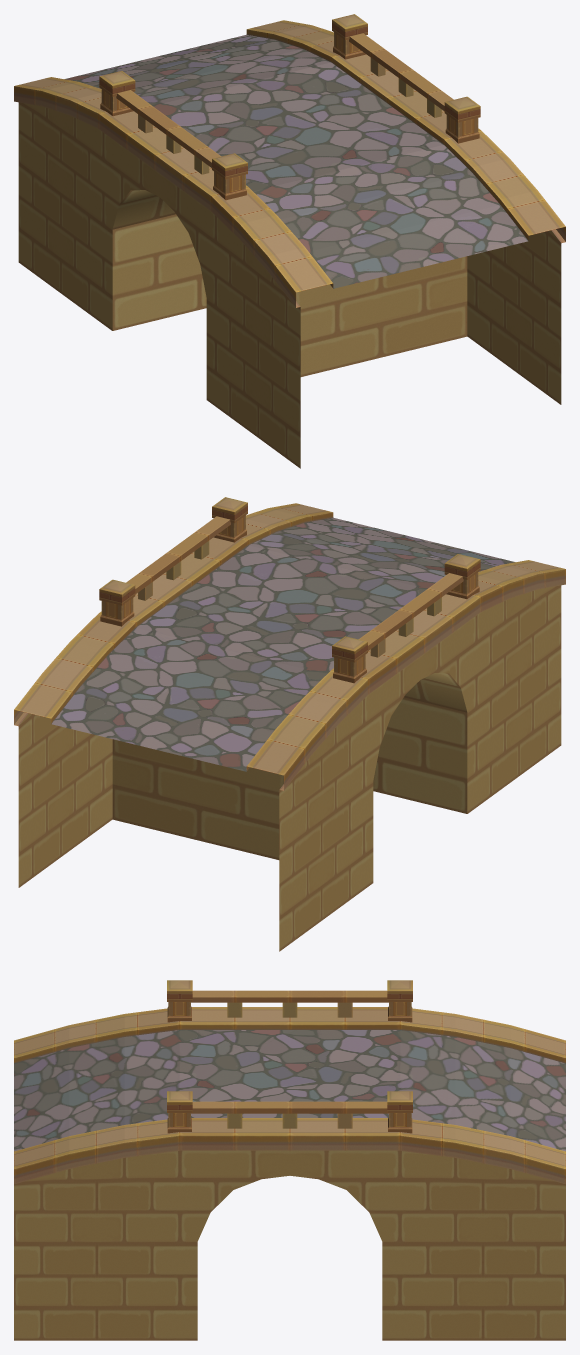
File: Bridge02_a01.FBX
3 renders of one model, top to bottom at view 1: azimuth 30°, elevation 25°; view 2: azimuth 150°, elevation 25°; view 3: azimuth 270°, elevation 25°, orthographic. The views are drawn at different scales.
Parts seen in each view (by area): view 1: Bridge02_a01; view 2: Bridge02_a01; view 3: Bridge02_a01.
Part boxes in pixels (bbox=[...]): Bridge02_a01: bbox=[14, 14, 565, 468]; Bridge02_a01: bbox=[14, 497, 565, 951]; Bridge02_a01: bbox=[14, 980, 565, 1340].
Bounding box in the file's own units: 985 × 860 × 1784.
Materials: 2 (2 with a texture image).
